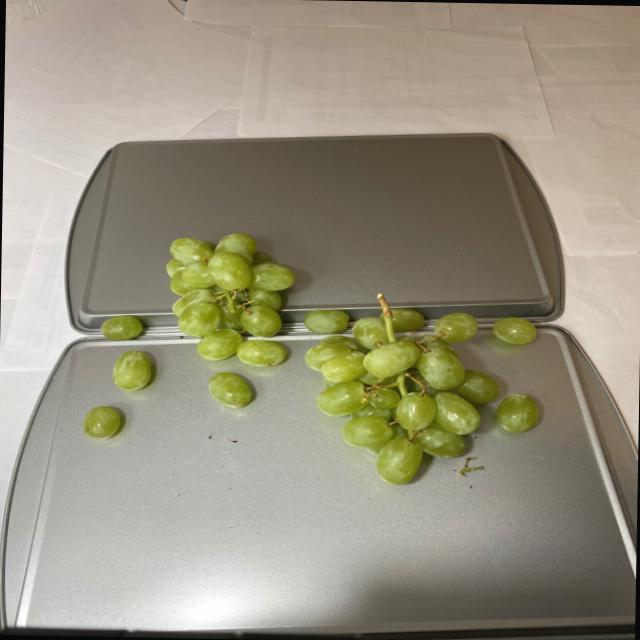grapes: (85, 230, 548, 496)
